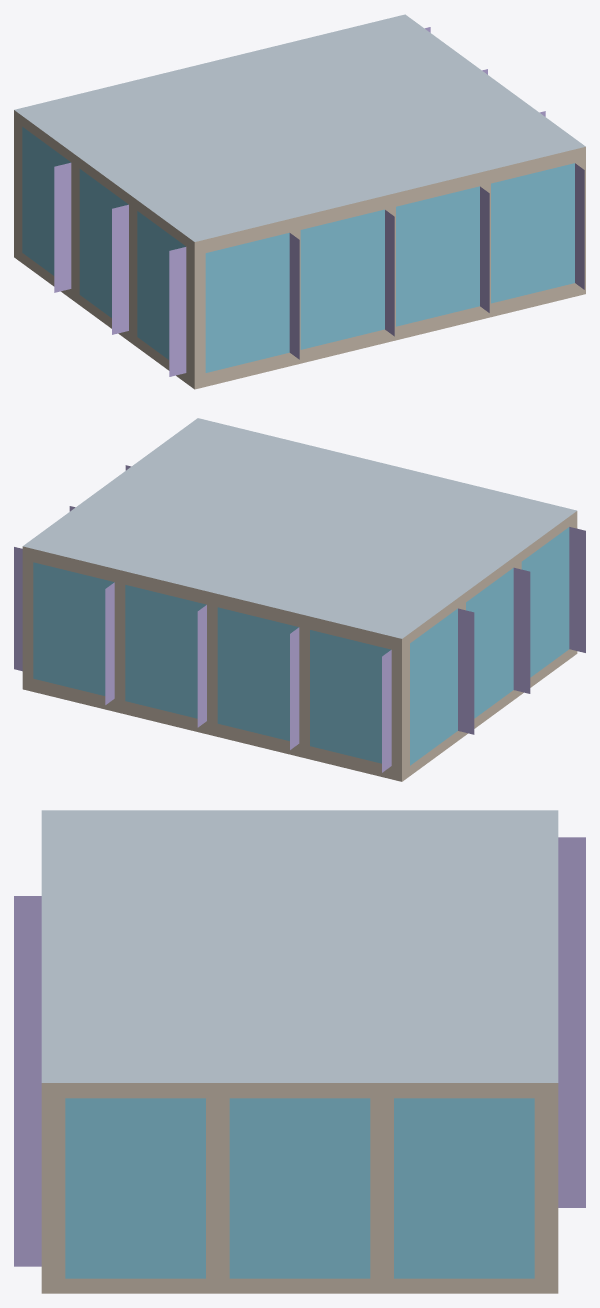
The model's file is FacadeScan_1Floor_WWR70_VerticalPR020.glb.
3 views of the same model, one above another, from view 1: azimuth 30°, elevation 25°; view 2: azimuth 150°, elevation 25°; view 3: azimuth 270°, elevation 25° (orthographic). The views are drawn at different scales.
Visible parts, largest first — view 1: ROOF_01, L01_S_B03_WIN, L01_S_B04_WIN, L01_S_B02_WIN, L01_S_B01_WIN, L01_W_B02_WIN, L01_W_B01_WIN, L01_W_B03_WIN, L01_W_B03_V, L01_W_B01_V, L01_W_B02_V, L01_S_B05_WALL_PIER (+23 smaller); view 2: ROOF_01, L01_N_B02_WIN, L01_N_B03_WIN, L01_N_B04_WIN, L01_N_B01_WIN, L01_W_B03_WIN, L01_W_B01_WIN, L01_W_B02_WIN, L01_W_B02_V, L01_W_B03_V, L01_W_B01_V, L01_N_B05_WALL_PIER (+22 smaller); view 3: ROOF_01, L01_E_B02_WIN, L01_E_B01_WIN, L01_E_B03_WIN, L01_E_B01_WALL_PIER, L01_E_B04_WALL_PIER, L01_E_B02_WALL_PIER, L01_E_B03_WALL_PIER, L01_N_B04_V, L01_S_B01_V, L01_E_B02_WALL_SILL, L01_E_B02_WALL_HEAD (+10 smaller).
Boxes of the visible parts, x1=… form: ROOF_01: x1=14, y1=14, x2=585, y2=241; L01_S_B03_WIN: x1=300, y1=209, x2=384, y2=349; L01_S_B04_WIN: x1=205, y1=233, x2=289, y2=372; L01_S_B02_WIN: x1=396, y1=186, x2=479, y2=326; L01_S_B01_WIN: x1=491, y1=163, x2=574, y2=303; L01_W_B02_WIN: x1=79, y1=169, x2=128, y2=317; L01_W_B01_WIN: x1=137, y1=211, x2=185, y2=359; L01_W_B03_WIN: x1=22, y1=127, x2=70, y2=275; L01_W_B03_V: x1=54, y1=162, x2=71, y2=292; L01_W_B01_V: x1=169, y1=247, x2=186, y2=376; L01_W_B02_V: x1=112, y1=204, x2=128, y2=334; L01_S_B05_WALL_PIER: x1=194, y1=239, x2=205, y2=389; ROOF_01: x1=23, y1=418, x2=576, y2=638; L01_N_B02_WIN: x1=217, y1=607, x2=298, y2=741; L01_N_B03_WIN: x1=125, y1=585, x2=206, y2=718; L01_N_B04_WIN: x1=33, y1=562, x2=114, y2=695; L01_N_B01_WIN: x1=310, y1=630, x2=390, y2=763; L01_W_B03_WIN: x1=410, y1=608, x2=457, y2=765; L01_W_B01_WIN: x1=521, y1=527, x2=569, y2=677; L01_W_B02_WIN: x1=466, y1=568, x2=513, y2=718; L01_W_B02_V: x1=513, y1=567, x2=530, y2=693; L01_W_B03_V: x1=458, y1=608, x2=474, y2=734; L01_W_B01_V: x1=569, y1=527, x2=585, y2=652; L01_N_B05_WALL_PIER: x1=22, y1=546, x2=33, y2=691; ROOF_01: x1=41, y1=810, x2=558, y2=1082; L01_E_B02_WIN: x1=229, y1=1098, x2=370, y2=1278; L01_E_B01_WIN: x1=394, y1=1098, x2=534, y2=1278; L01_E_B03_WIN: x1=65, y1=1098, x2=205, y2=1278; L01_E_B01_WALL_PIER: x1=534, y1=1083, x2=558, y2=1293; L01_E_B04_WALL_PIER: x1=41, y1=1083, x2=65, y2=1293; L01_E_B02_WALL_PIER: x1=370, y1=1083, x2=393, y2=1293; L01_E_B03_WALL_PIER: x1=206, y1=1083, x2=229, y2=1293; L01_N_B04_V: x1=558, y1=1036, x2=585, y2=1207; L01_S_B01_V: x1=14, y1=1095, x2=41, y2=1266; L01_E_B02_WALL_SILL: x1=229, y1=1278, x2=370, y2=1293; L01_E_B02_WALL_HEAD: x1=229, y1=1083, x2=370, y2=1098.
Size of the model in its own units: 10.87 by 3.6 by 8.86.
